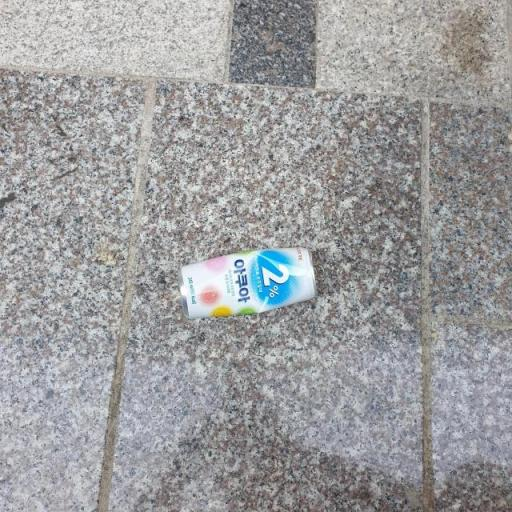metal: (158, 229, 338, 339)
